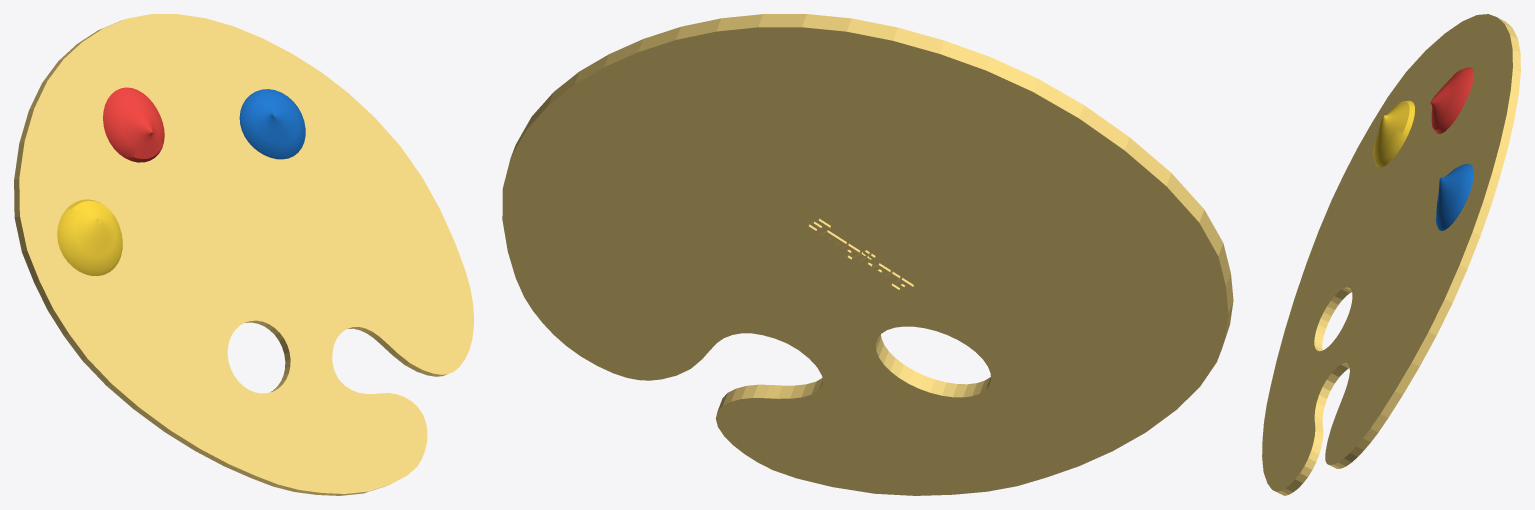
Rendered from artist_palette.glb.
The picture shows the model from 3 angles, left to right: view 1: azimuth 30°, elevation 25°; view 2: azimuth 150°, elevation 25°; view 3: azimuth 270°, elevation 25°; orthographic projection. The views are drawn at different scales.
Parts seen in each view (by area): view 1: Plane.320; view 2: Plane.320; view 3: Plane.320.
Part boxes in pixels (left/top/right/bottom): Plane.320: left=14, top=14, right=473, bottom=495; Plane.320: left=502, top=14, right=1233, bottom=495; Plane.320: left=1262, top=14, right=1520, bottom=495.
Size of the model in its own units: 2.36 by 2.13 by 1.28.
Materials: 1 (1 with a texture image).
